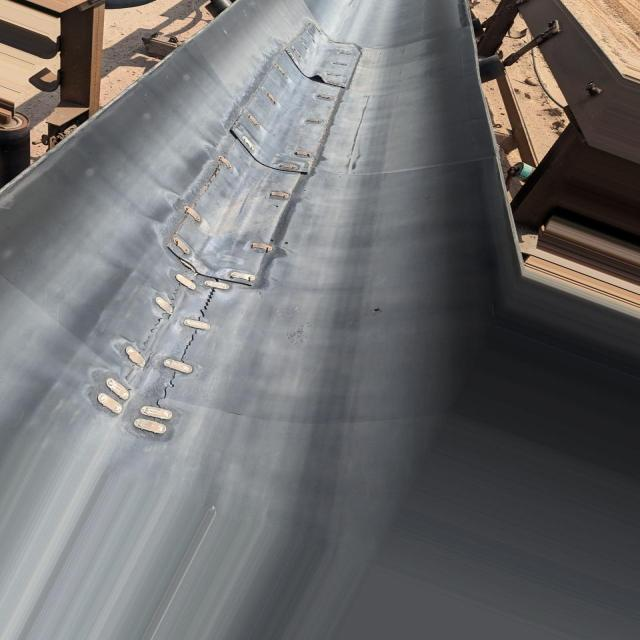patch work: (92, 23, 363, 434)
